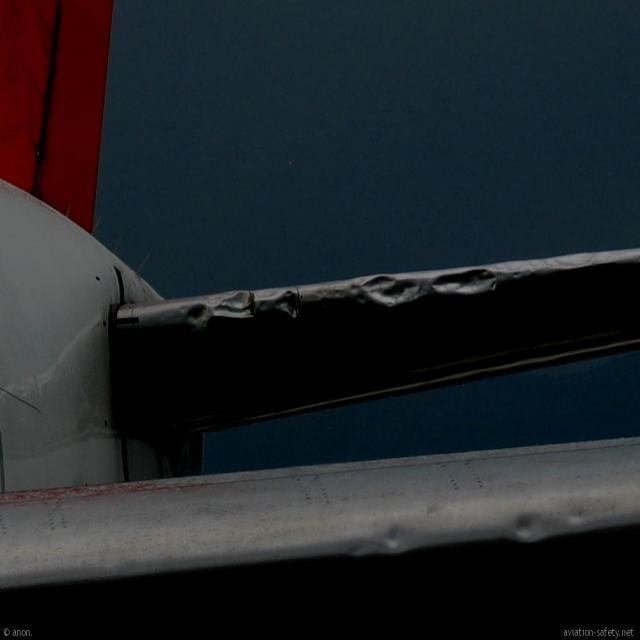dent: (361, 270, 427, 313), (427, 266, 500, 302), (217, 291, 260, 323), (186, 300, 216, 332), (277, 288, 303, 321)
